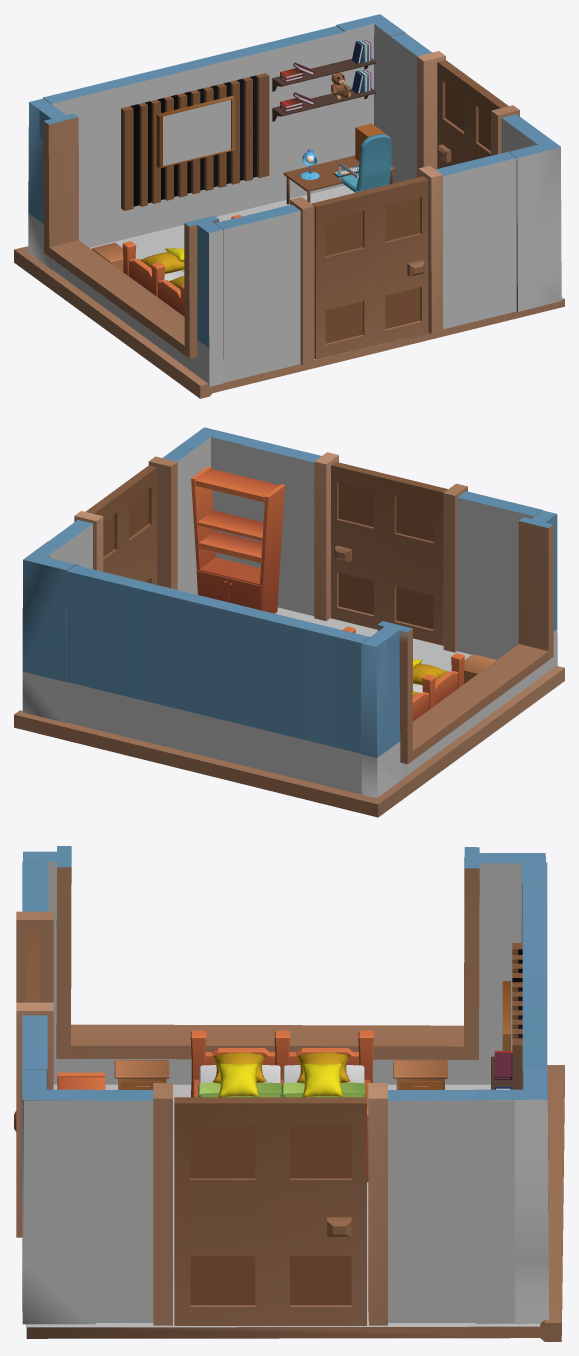
File: DORMITORIO.fbx
3 views of the same model, one above another, from view 1: azimuth 30°, elevation 25°; view 2: azimuth 150°, elevation 25°; view 3: azimuth 270°, elevation 25° (orthographic). The views are drawn at different scales.
Visible parts, largest first — view 1: paret_puerta41, paret_basica25, puerta26, paret_con_ventana_grande22, decor_paret2, paret_puerta45, suelo12, paret_esquina_87, puerta29, mesa_ordena2, paret_esquina37, paret_esquina_78 (+4 smaller); view 2: paret_basica25, paret_puerta41, puerta26, paret_con_ventana_grande22, suelo12, mueble4, paret_puerta45, paret_esquina_78, paret_esquina37, puerta29, paret_esquina_87, cama2 (+1 smaller); view 3: paret_puerta45, puerta29, paret_con_ventana_grande22, suelo12, cama2, paret_esquina_78, paret_puerta41, paret_esquina_87, paret_basica25, paret_esquina37, decor_paret2, mesita6 (+4 smaller).
Part boxes in pixels (x1,y1,x2,y2): paret_puerta41: (215, 152, 516, 382); paret_basica25: (43, 26, 345, 247); puerta26: (311, 176, 430, 359); paret_con_ventana_grande22: (39, 110, 223, 386); decor_paret2: (121, 73, 269, 210); paret_puerta45: (376, 26, 560, 184); suelo12: (14, 185, 564, 398); paret_esquina_87: (509, 128, 561, 311); puerta29: (437, 60, 508, 168); mesa_ordena2: (283, 123, 396, 204); paret_esquina37: (28, 97, 80, 270); paret_esquina_78: (336, 14, 405, 157); paret_basica25: (67, 565, 369, 794); paret_puerta41: (240, 438, 542, 660); puerta26: (330, 462, 447, 645); paret_con_ventana_grande22: (377, 510, 557, 778); suelo12: (14, 607, 564, 817); mueble4: (191, 466, 285, 613); paret_puerta45: (48, 428, 210, 594); paret_esquina_78: (22, 541, 75, 722); paret_esquina37: (361, 624, 402, 797); puerta29: (85, 465, 156, 584); paret_esquina_87: (180, 427, 248, 563); cama2: (342, 626, 464, 721); paret_puerta45: (24, 1083, 514, 1325); puerta29: (174, 1097, 366, 1325); paret_con_ventana_grande22: (23, 846, 512, 1084); suelo12: (26, 1065, 564, 1341); cama2: (190, 1030, 373, 1182); paret_esquina_78: (474, 1068, 549, 1323); paret_puerta41: (16, 861, 53, 1237); paret_esquina_87: (22, 1069, 95, 1324); paret_basica25: (522, 862, 547, 1089); paret_esquina37: (472, 853, 545, 969); decor_paret2: (502, 943, 522, 1089); mesita6: (393, 1060, 447, 1089).
Size of the model in its own units: 836 by 361 by 742.
